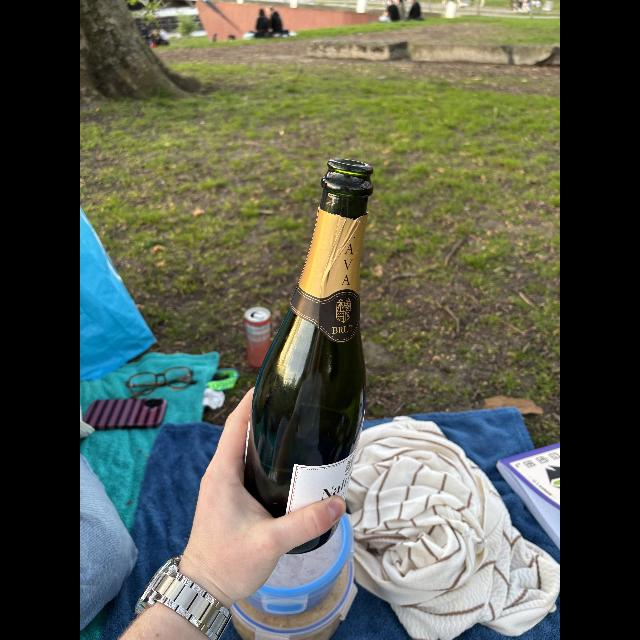Cardboard: (500, 437, 560, 551)
Glass: (244, 151, 376, 554)
Metal: (244, 302, 272, 370)
Plastic: (230, 522, 364, 636)
